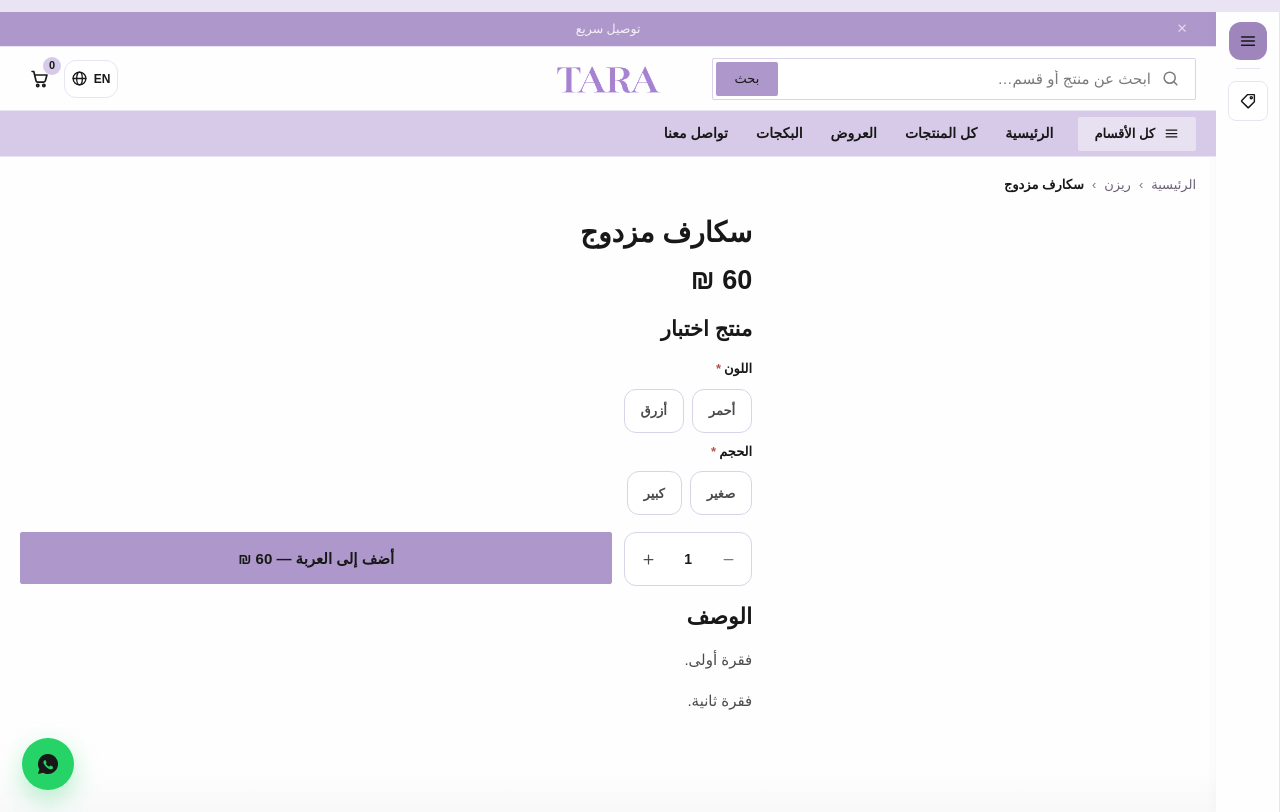
Test case: storefront multi-axis selection › refuses a combination whose variant is inactive
The width and height of the screenshot is (1280, 812).
Click the button "أزرق" at (654,410), box [624,388,684,432]
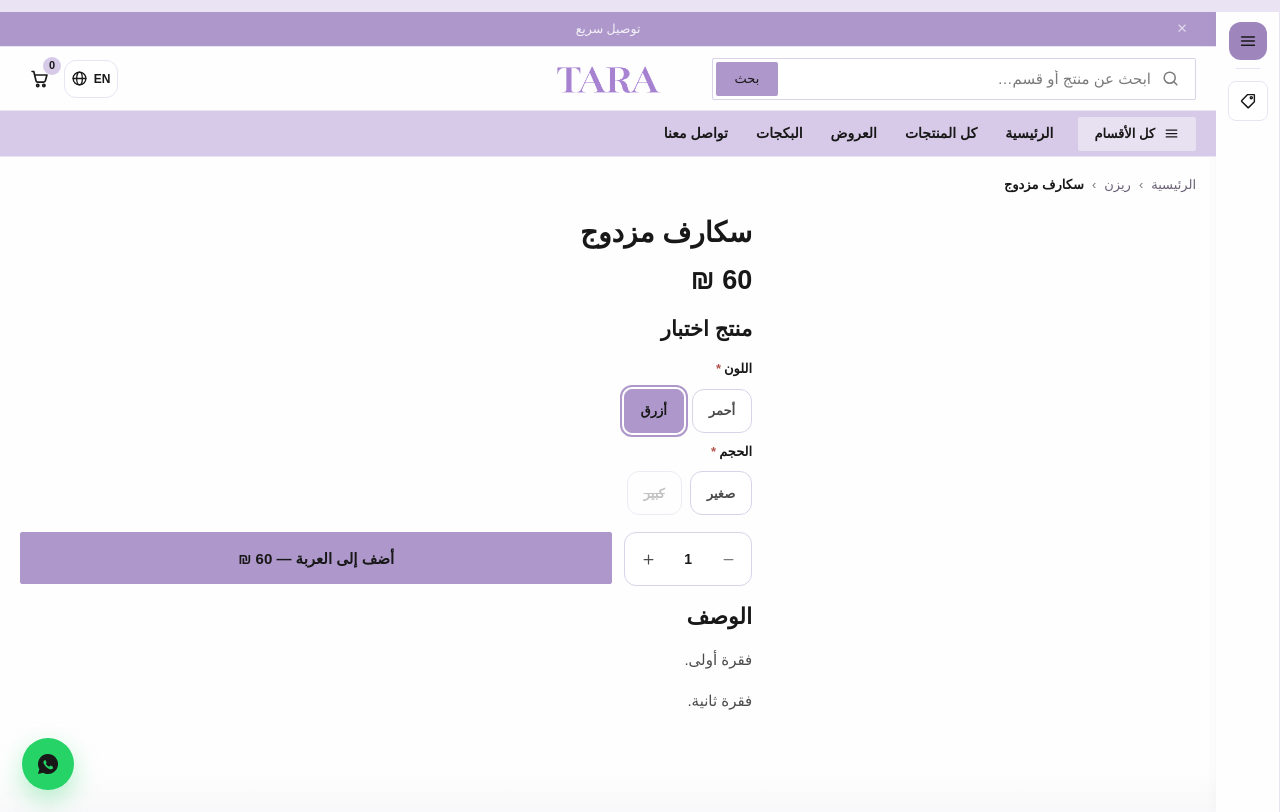
Result: the button "كبير" is disabled at [626,471,682,515]
Click the button "أضف إلى العربة — 60 ₪" at (316,558), box [20,532,612,584]
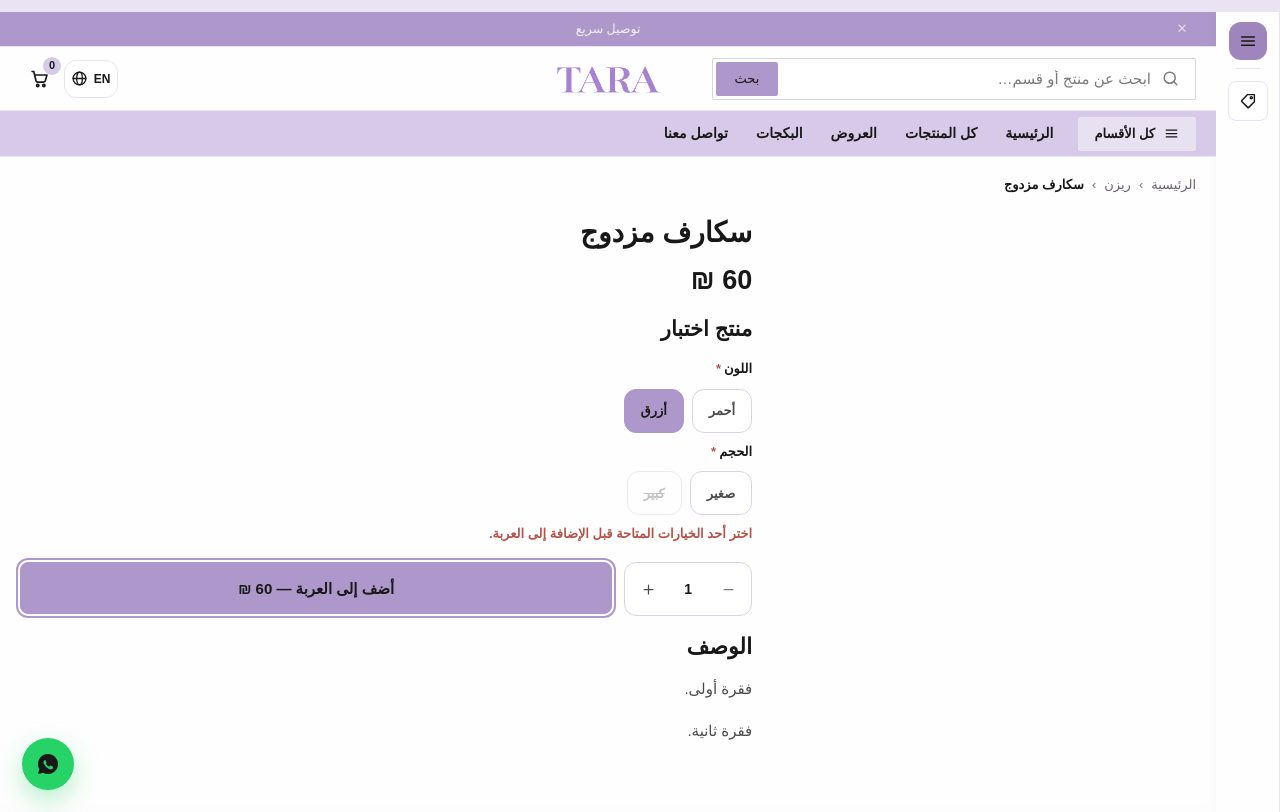
Result: the message shows "اختر أحد الخيارات" at [489,526,752,541]
